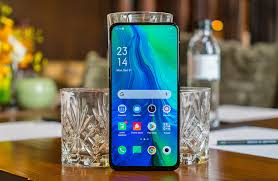oppo: (108, 21, 182, 174)
